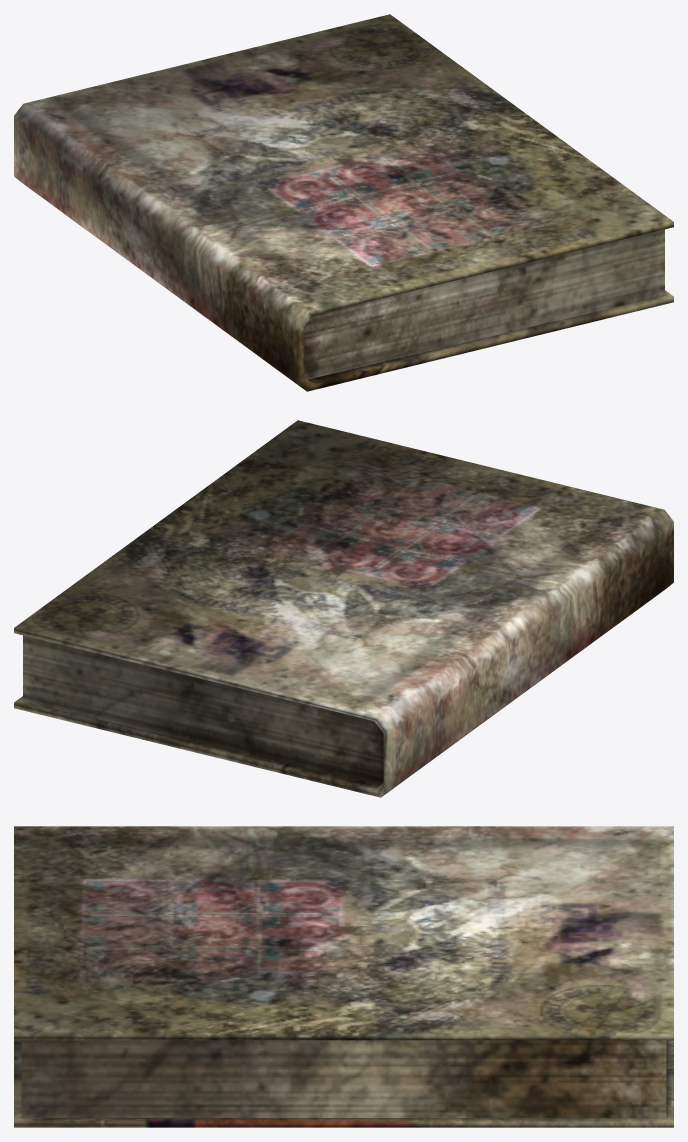
The model's file is book04.FBX.
3 views of the same model, one above another, from view 1: azimuth 30°, elevation 25°; view 2: azimuth 150°, elevation 25°; view 3: azimuth 270°, elevation 25° (orthographic). The views are drawn at different scales.
Parts seen in each view (by area): view 1: SM_Book04; view 2: SM_Book04; view 3: SM_Book04.
Part boxes in pixels (left/top/right/bottom): SM_Book04: left=14, top=14, right=673, bottom=391; SM_Book04: left=14, top=420, right=673, bottom=797; SM_Book04: left=14, top=826, right=673, bottom=1127.
Bounding box in the file's own units: 22.03 × 4.49 × 28.79.
Materials: 1 (1 with a texture image).
